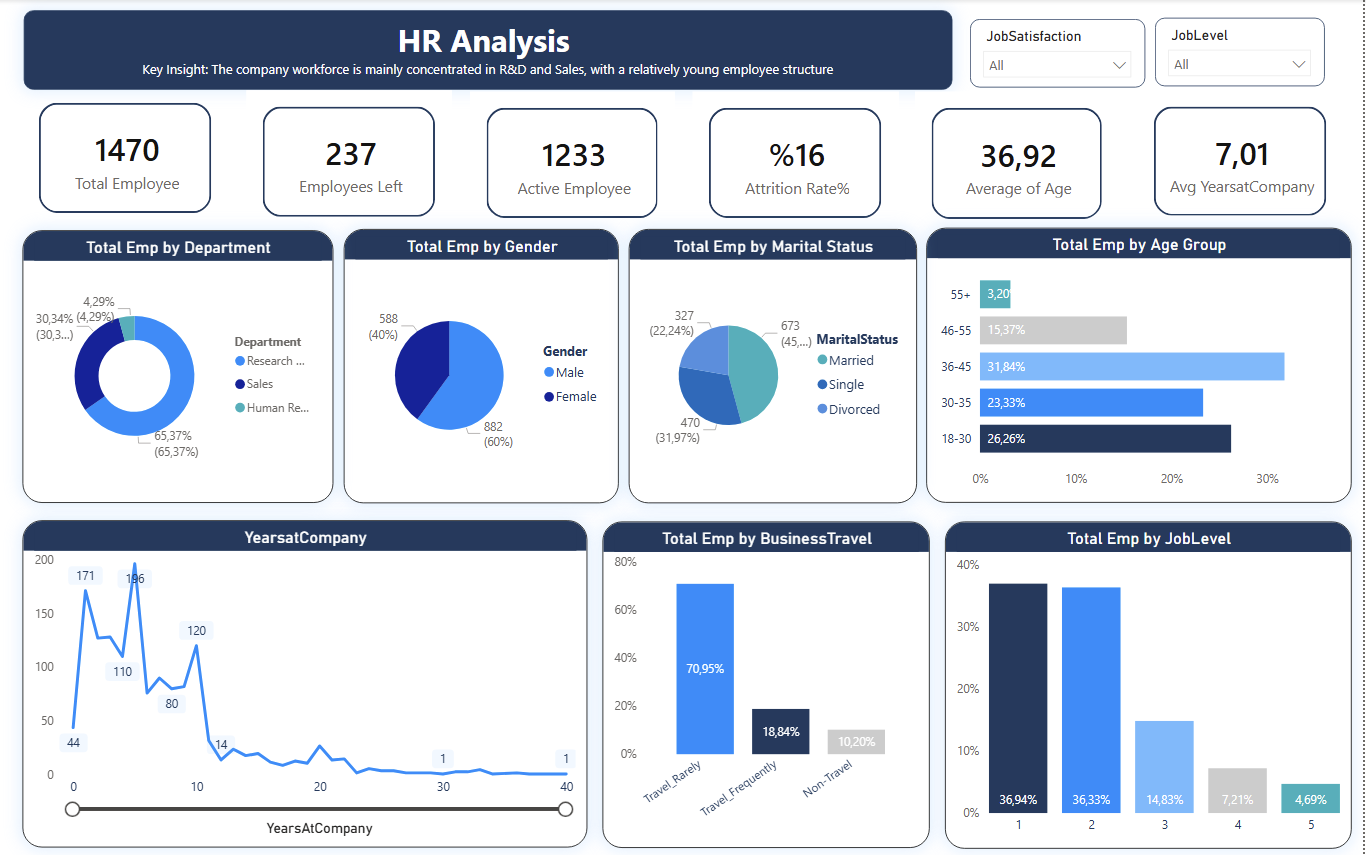

The dashboard page shown, as its layout file describes it:
{"tool":"powerbi","page":{"name":"Overview","canvas":[1400,900],"ordinal":1},"visuals":[{"type":"cardVisual","fields":{"Data":["Sum(HR-Employee-Attrition.EmployeeCount)"]},"box":[23.5,89.8,211.5,147.9],"z":0},{"type":"textbox","box":[23.9,11.4,953.5,81.9],"z":1000},{"type":"cardVisual","fields":{"Data":["HR-Employee-Attrition.Attrition Yes"]},"box":[252.8,94.2,211.2,147.7],"z":2000},{"type":"cardVisual","fields":{"Data":["HR-Employee-Attrition.Attrition No"]},"box":[482.4,95.6,210.5,147.9],"z":3000},{"type":"cardVisual","fields":{"Data":["HR-Employee-Attrition.Attrition Rate%"]},"box":[711.1,95.6,211.6,147.9],"z":4000},{"type":"cardVisual","fields":{"Data":["Avg(HR-Employee-Attrition.Age)"]},"box":[940.1,94.9,209.8,148.4],"z":5000},{"type":"cardVisual","fields":{"Data":["Avg(HR-Employee-Attrition.YearsAtCompany)"]},"box":[1167.9,94,211.5,146.5],"z":6000},{"type":"pieChart","title":"Total Emp by Gender","fields":{"Y":["Sum(HR-Employee-Attrition.EmployeeCount)"],"Category":["HR-Employee-Attrition.Gender"]},"box":[352.7,236.3,282.7,281.3],"z":7000},{"type":"barChart","title":"Total Emp by Age Group","fields":{"Category":["HR-Employee-Attrition.Age Group"],"Y":["Sum(HR-Employee-Attrition.EmployeeCount)"]},"box":[951.1,234.9,436.4,282.7],"z":8000},{"type":"lineChart","title":"YearsatCompany","fields":{"Y":["Sum(HR-Employee-Attrition.EmployeeCount)"],"Category":["HR-Employee-Attrition.YearsAtCompany"]},"box":[22.8,534.8,580.3,335.7],"z":9000},{"type":"columnChart","title":"Total Emp by JobLevel","fields":{"Y":["Sum(HR-Employee-Attrition.EmployeeCount)"],"Category":["HR-Employee-Attrition.JobLevel"]},"box":[970,536.5,417.6,336.4],"z":10000},{"type":"slicer","fields":{"Values":["HR-Employee-Attrition.JobSatisfaction"]},"box":[996.5,20.7,179.7,70.5],"z":12000},{"type":"slicer","fields":{"Values":["HR-Employee-Attrition.JobLevel"]},"box":[1185.8,19.3,174.1,70.5],"z":13000},{"type":"pieChart","title":"Total Emp by Marital Status","fields":{"Y":["Sum(HR-Employee-Attrition.EmployeeCount)"],"Category":["HR-Employee-Attrition.MaritalStatus"]},"box":[645.4,236.3,295.8,281.3],"z":14000},{"type":"donutChart","title":"Total Emp by Department","fields":{"Category":["HR-Employee-Attrition.Department"],"Y":["Divide(Sum(HR-Employee-Attrition.EmployeeCount), ScopedEval(Sum(HR-Employee-Attrition.EmployeeCount), []))"]},"box":[23.2,237.8,319,279.8],"z":15000},{"type":"columnChart","title":"Total Emp by BusinessTravel","fields":{"Category":["HR-Employee-Attrition.BusinessTravel"],"Y":["CountNonNull(HR-Employee-Attrition.Attrition)"]},"box":[618.3,536.5,336.4,334.9],"z":16000}]}

Visuals, with their boxes in screenshot pixels (x1, y1, x2, y2), scaled from the page's 1400x900 canvas onto the 1366x855 screenshot:
cardVisual - Sum(HR-Employee-Attrition.EmployeeCount): select_region(23, 85, 229, 226)
textbox: select_region(23, 11, 954, 89)
cardVisual - HR-Employee-Attrition.Attrition Yes: select_region(247, 89, 453, 230)
cardVisual - HR-Employee-Attrition.Attrition No: select_region(471, 91, 676, 231)
cardVisual - HR-Employee-Attrition.Attrition Rate%: select_region(694, 91, 900, 231)
cardVisual - Avg(HR-Employee-Attrition.Age): select_region(917, 90, 1122, 231)
cardVisual - Avg(HR-Employee-Attrition.YearsAtCompany): select_region(1140, 89, 1346, 228)
"Total Emp by Gender" pieChart: select_region(344, 224, 620, 492)
"Total Emp by Age Group" barChart: select_region(928, 223, 1354, 492)
"YearsatCompany" lineChart: select_region(22, 508, 588, 827)
"Total Emp by JobLevel" columnChart: select_region(946, 510, 1354, 829)
slicer - HR-Employee-Attrition.JobSatisfaction: select_region(972, 20, 1148, 87)
slicer - HR-Employee-Attrition.JobLevel: select_region(1157, 18, 1327, 85)
"Total Emp by Marital Status" pieChart: select_region(630, 224, 918, 492)
"Total Emp by Department" donutChart: select_region(23, 226, 334, 492)
"Total Emp by BusinessTravel" columnChart: select_region(603, 510, 932, 828)
